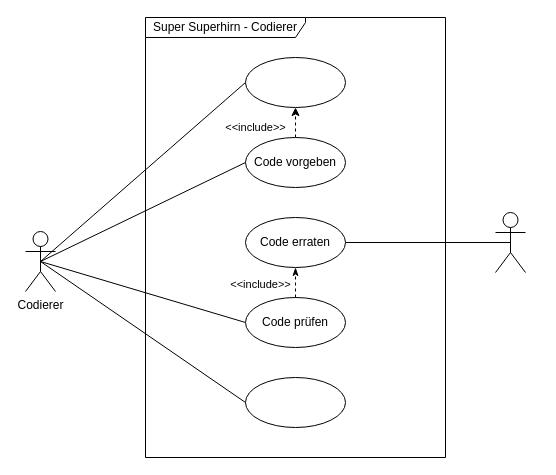
The diagram is 556 pixels wide and 475 high, and some of its shapes have lost their labels. Here are the shapes that lost their labels. From the top down, the box of each, then its label:
(244, 56, 346, 108): Spiel starten
(494, 212, 526, 272): NPC Rater
(244, 376, 346, 428): Hinweise "stecken"
